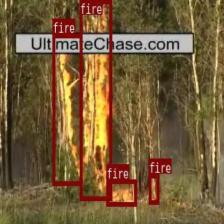fire: (80, 0, 111, 200), (52, 33, 82, 184), (105, 180, 136, 206), (148, 174, 158, 204)
